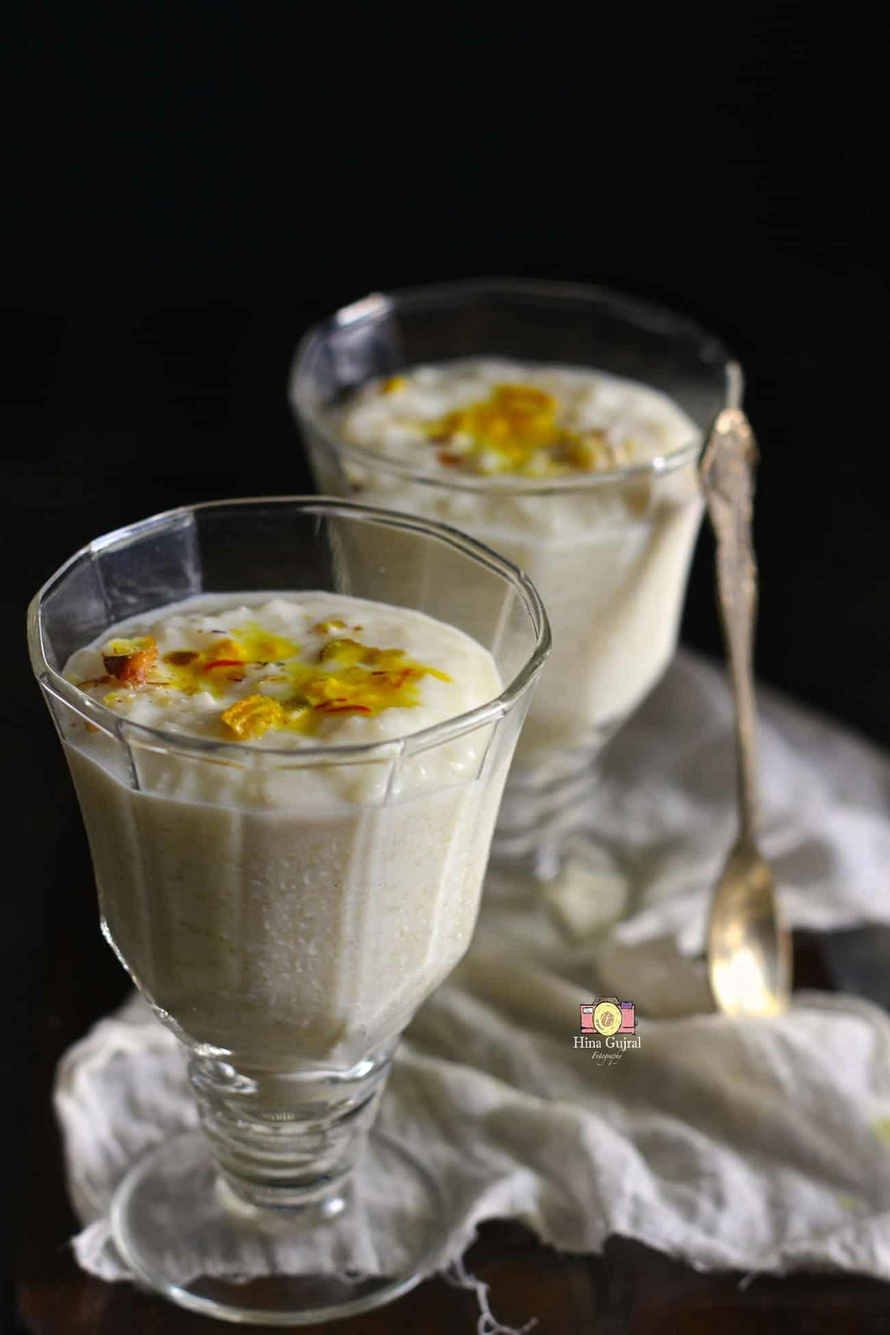Kheer: (62, 590, 514, 1101), (330, 366, 699, 759)
